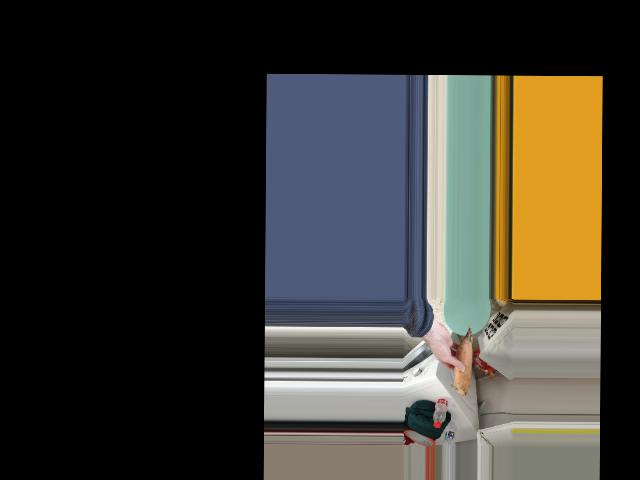sweet_potato: (450, 328, 477, 398)
